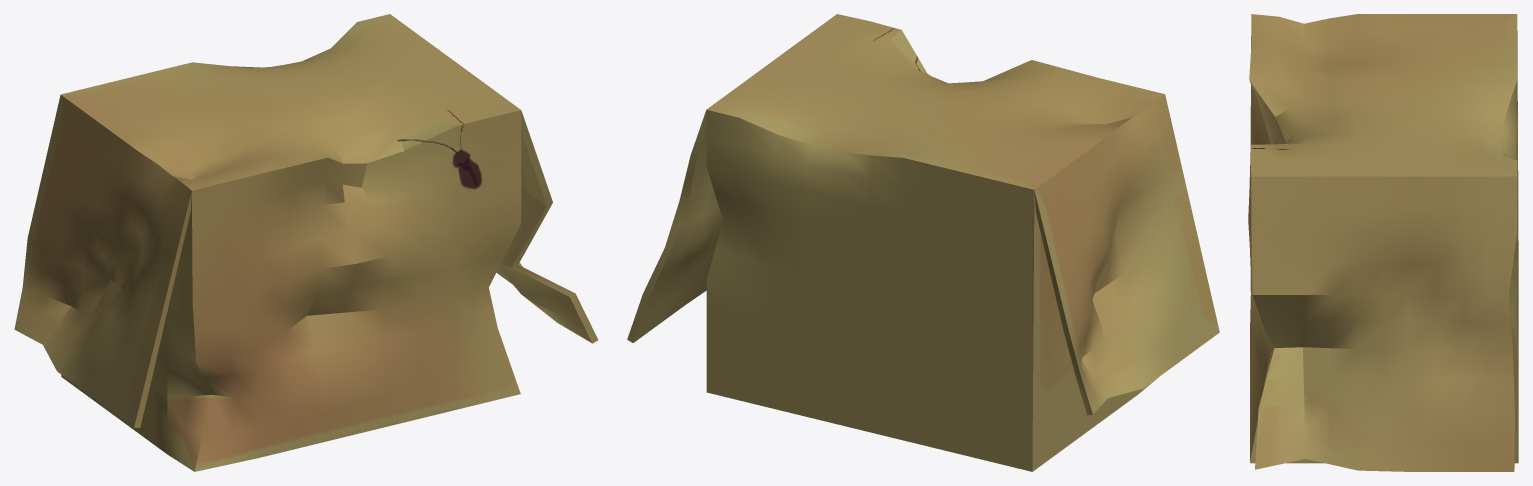
Rendered from box-dish.fbx.
The picture shows the model from 3 angles, left to right: view 1: azimuth 30°, elevation 25°; view 2: azimuth 150°, elevation 25°; view 3: azimuth 270°, elevation 25°; orthographic projection.
Visible parts, largest first — view 1: 立方体.006; view 2: 立方体.006; view 3: 立方体.006.
Part boxes in pixels (left/top/right/bottom): 立方体.006: left=14, top=14, right=598, bottom=471; 立方体.006: left=627, top=14, right=1219, bottom=471; 立方体.006: left=1248, top=14, right=1518, bottom=471.
Bounding box in the file's own units: 292 × 170 × 145.
